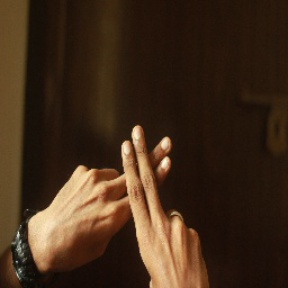F: (78, 116, 207, 249)
